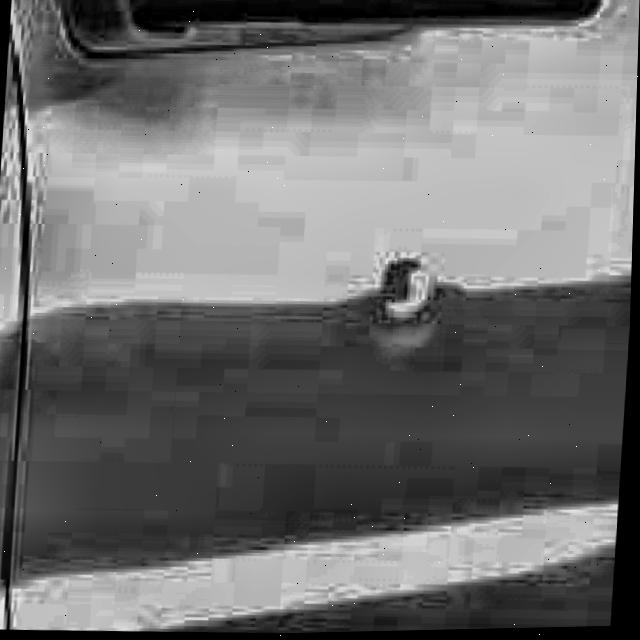door_dent: (364, 248, 445, 329)
